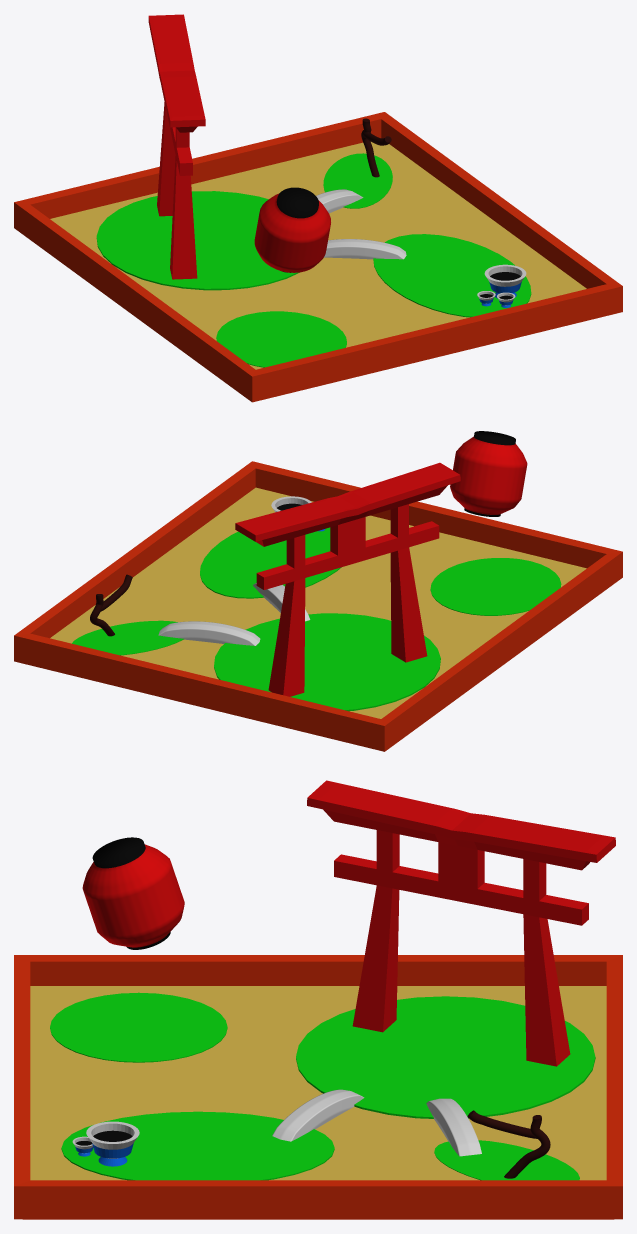
File: tst_scene_zen.obj
3 renders of one model, top to bottom at view 1: azimuth 30°, elevation 25°; view 2: azimuth 150°, elevation 25°; view 3: azimuth 270°, elevation 25°, orthographic. The views are drawn at different scales.
Visible parts, largest first — view 1: zen_garden_bed, land_lrg, gate, land_med, land_mystery, lantern, land_sml, bridge_lrg_to_med, pot_c, bridge_lrg_to_sml, dead_bonsai_tree; view 2: zen_garden_bed, gate, land_lrg, land_mystery, lantern, land_med, land_sml, bridge_lrg_to_sml, dead_bonsai_tree, bridge_lrg_to_med; view 3: zen_garden_bed, gate, land_lrg, land_med, land_mystery, lantern, land_sml, bridge_lrg_to_med, bridge_lrg_to_sml, pot_c, dead_bonsai_tree.
Boxes of the visible parts, left/top/right/bottom form: zen_garden_bed: left=14, top=112, right=622, bottom=402; land_lrg: left=96, top=191, right=299, bottom=290; gate: left=148, top=14, right=205, bottom=279; land_med: left=373, top=234, right=531, bottom=317; land_mystery: left=216, top=311, right=346, bottom=367; lantern: left=254, top=187, right=330, bottom=272; land_sml: left=323, top=153, right=392, bottom=208; bridge_lrg_to_med: left=324, top=239, right=406, bottom=259; pot_c: left=484, top=264, right=526, bottom=298; bridge_lrg_to_sml: left=316, top=189, right=363, bottom=213; dead_bonsai_tree: left=361, top=118, right=391, bottom=177; zen_garden_bed: left=14, top=461, right=622, bottom=751; gate: left=235, top=462, right=460, bottom=696; land_lrg: left=214, top=613, right=440, bottom=711; land_mystery: left=430, top=558, right=561, bottom=615; lantern: left=450, top=431, right=527, bottom=516; land_med: left=200, top=527, right=341, bottom=598; land_sml: left=72, top=620, right=183, bottom=655; bridge_lrg_to_sml: left=158, top=621, right=260, bottom=645; dead_bonsai_tree: left=90, top=574, right=132, bottom=636; bridge_lrg_to_med: left=253, top=583, right=310, bottom=621; zen_garden_bed: left=14, top=955, right=622, bottom=1219; gate: left=307, top=780, right=615, bottom=1066; land_lrg: left=296, top=996, right=595, bottom=1118; land_med: left=61, top=1111, right=334, bottom=1180; land_mystery: left=50, top=992, right=227, bottom=1062; lantern: left=82, top=837, right=184, bottom=949; land_sml: left=434, top=1140, right=579, bottom=1180; bridge_lrg_to_med: left=272, top=1089, right=364, bottom=1141; bridge_lrg_to_sml: left=426, top=1098, right=481, bottom=1156; pot_c: left=86, top=1121, right=139, bottom=1166; dead_bonsai_tree: left=467, top=1110, right=550, bottom=1178.
Size of the model in its own units: 11.8 by 5.69 by 13.13.
